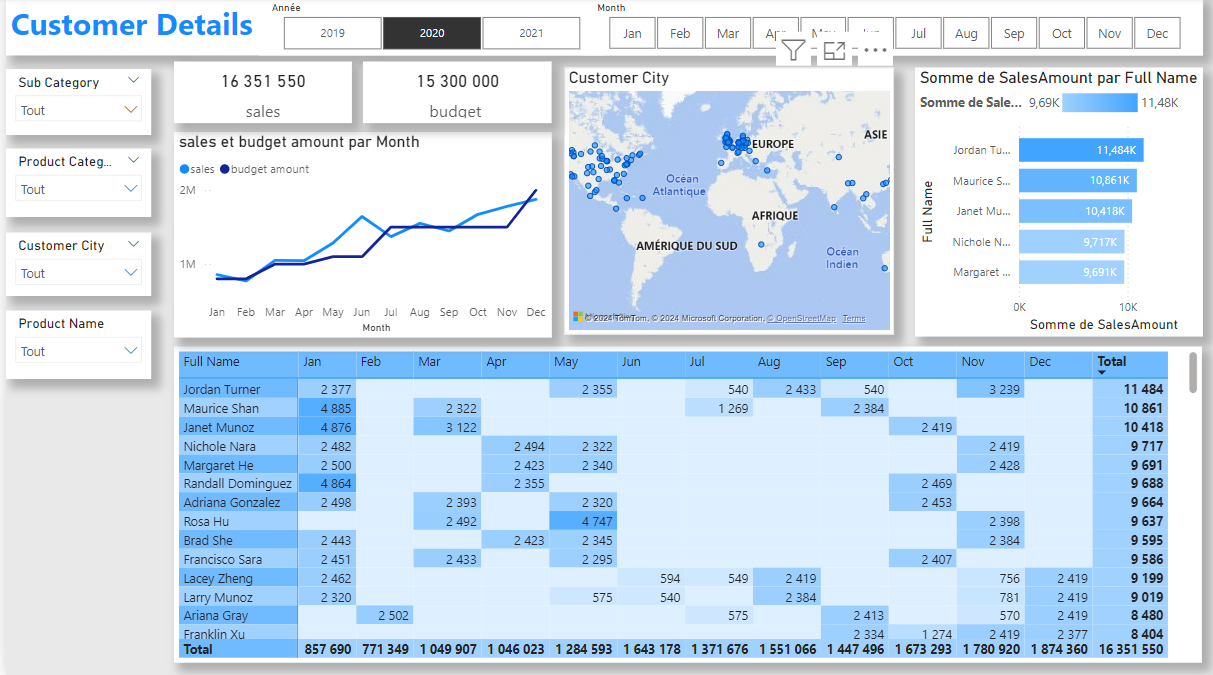

Layout of this report page (visuals, bound fields, positions):
{"tool":"powerbi","page":{"name":"Customer Details","canvas":[1280,720],"ordinal":1},"visuals":[{"type":"textbox","box":[0,0,1269.3,62],"z":0},{"type":"slicer","fields":{"Values":["DIM_Products.Sub Category"]},"box":[0,75.7,154.3,70],"z":1000},{"type":"slicer","fields":{"Values":["DIM_Products.Product Category"]},"box":[0,160,154.3,72.9],"z":2000},{"type":"slicer","fields":{"Values":["DIM_Customers.Customer City"]},"box":[0,250,154.3,67.1],"z":3000},{"type":"slicer","fields":{"Values":["DIM_Products.Product Name"]},"box":[0,332.9,154.3,72.9],"z":4000},{"type":"slicer","fields":{"Values":["DIM_Calendarcsv.Date.Variation.Hiérarchie de dates.Année"]},"box":[268.8,0,364.2,62],"z":5000},{"type":"slicer","fields":{"Values":["DIM_Calendarcsv.MonthShort"]},"box":[613.3,0,655,61.7],"z":6000},{"type":"clusteredBarChart","fields":{"Y":["Sum(FACT_InternetSales.SalesAmount)"],"Category":["DIM_Customers.Full Name"]},"box":[963.3,75,305,285],"z":7000},{"type":"pivotTable","fields":{"Rows":["DIM_Customers.Full Name"],"Columns":["DIM_Calendarcsv.MonthShort"],"Values":["Measures Table.sales"]},"box":[178.3,370,1090,335],"z":8000},{"type":"lineChart","fields":{"Y2":["FACT_InternetSales.sales","Budget.budget amount"],"Category":["DIM_Calendarcsv.MonthShort"]},"box":[178.1,143.2,400.8,217.9],"z":9000},{"type":"map","fields":{"Category":["DIM_Customers.Customer City"]},"box":[591.7,75,350,283.3],"z":10000},{"type":"card","fields":{"Values":["Measures Table.sales"]},"box":[178.3,68.3,188.3,65],"z":11000},{"type":"card","fields":{"Values":["Measures Table.budget amount"]},"box":[378.3,68.3,200,65],"z":12000}]}

Visuals, with their boxes in screenshot pixels (x1, y1, x2, y2), scaled from the page's 1280x720 canvas onto the 1213x675 screenshot:
textbox: <box>0,0,1203,58</box>
slicer - DIM_Products.Sub Category: <box>0,71,146,137</box>
slicer - DIM_Products.Product Category: <box>0,150,146,218</box>
slicer - DIM_Customers.Customer City: <box>0,234,146,297</box>
slicer - DIM_Products.Product Name: <box>0,312,146,380</box>
slicer - DIM_Calendarcsv.Date.Variation.Hiérarchie de dates.Année: <box>255,0,600,58</box>
slicer - DIM_Calendarcsv.MonthShort: <box>581,0,1202,58</box>
clusteredBarChart - Sum(FACT_InternetSales.SalesAmount) x DIM_Customers.Full Name: <box>913,70,1202,338</box>
pivotTable - DIM_Customers.Full Name x DIM_Calendarcsv.MonthShort: <box>169,347,1202,661</box>
lineChart - FACT_InternetSales.sales x Budget.budget amount: <box>169,134,549,339</box>
map - DIM_Customers.Customer City: <box>561,70,892,336</box>
card - Measures Table.sales: <box>169,64,347,125</box>
card - Measures Table.budget amount: <box>358,64,548,125</box>
